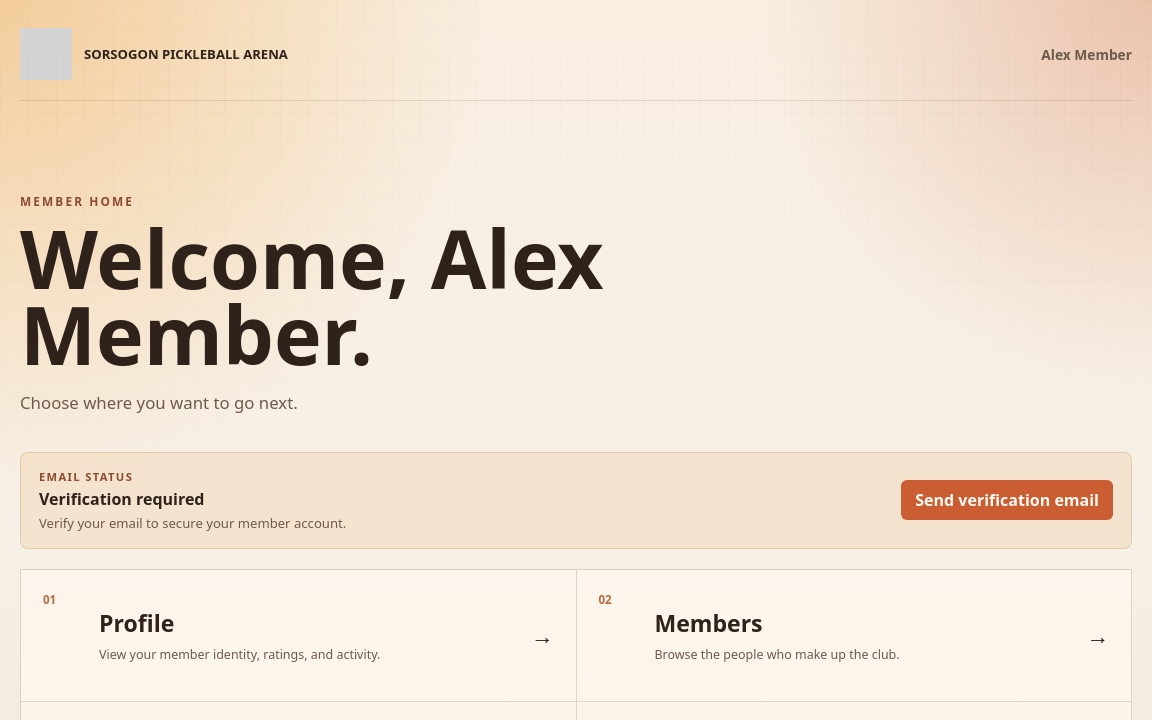
Test: HomePageComponent › should request email verification and show the masked recipient
This screenshot has width=1152, height=720.
Click the button "Send verification email" at point(1007, 500), box [901,480,1113,520]
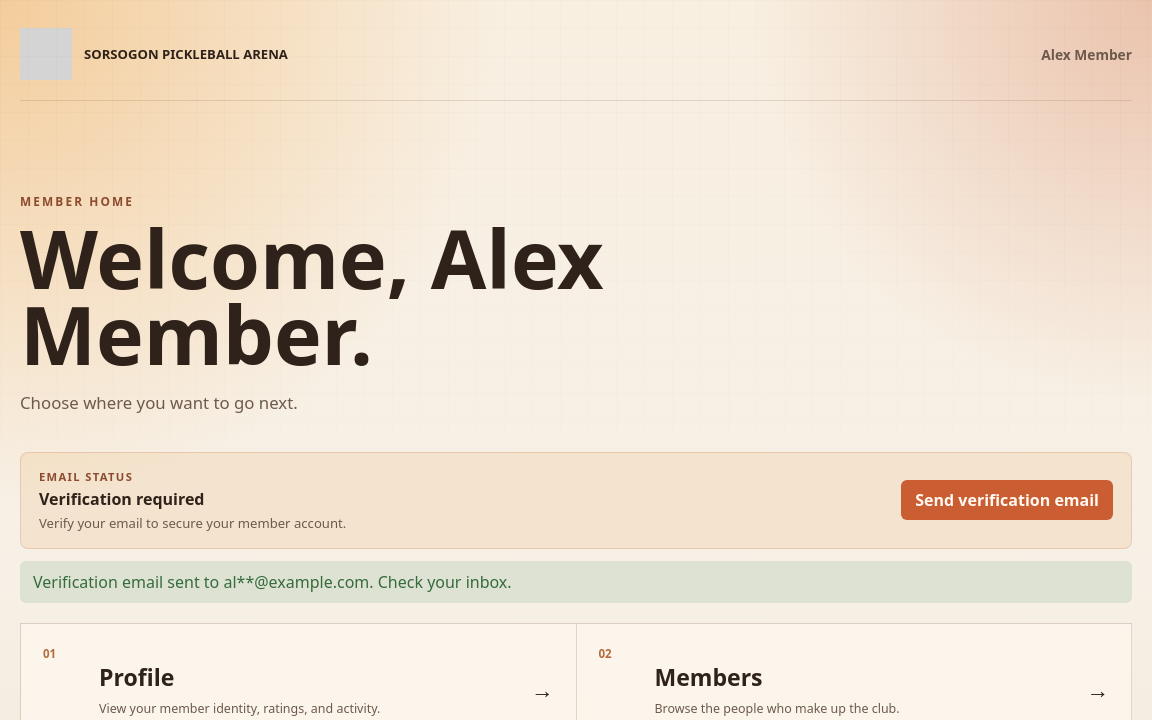
Expected: the text "Verification email sent to al**@example.com" is shown, [33,571,512,593]
